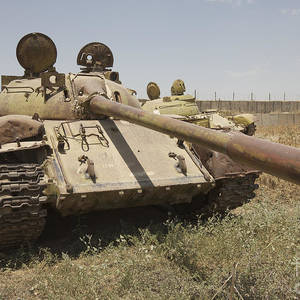Battle Tank: (2, 37, 300, 249)
